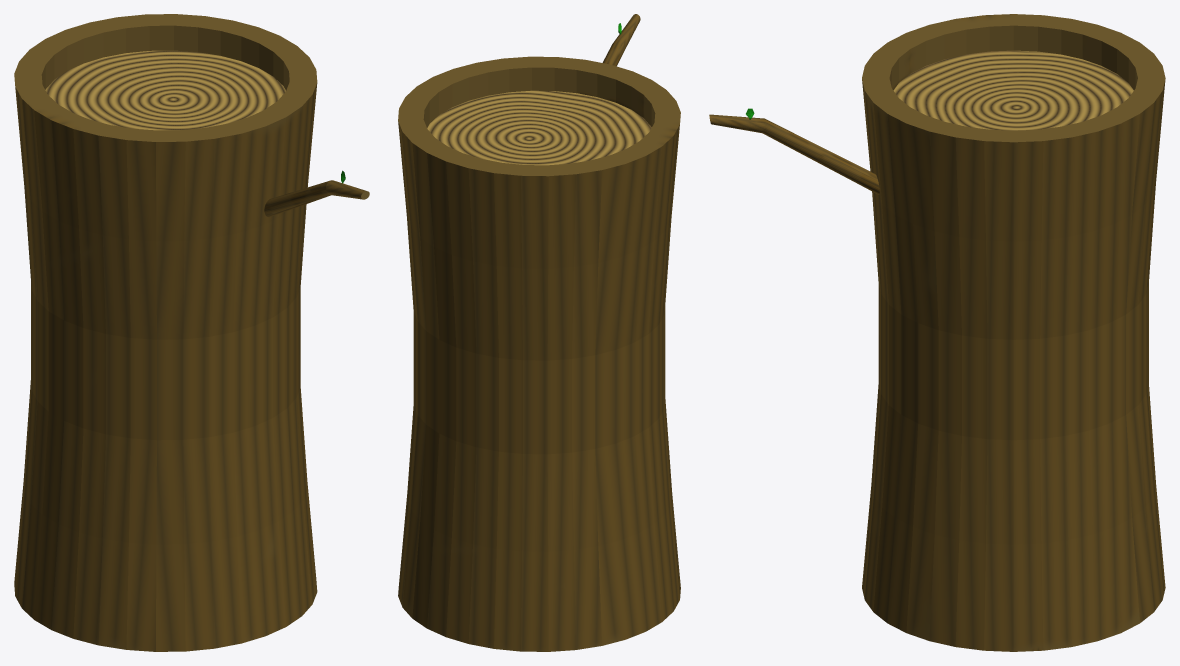
The model's file is Log.fbx.
The picture shows the model from 3 angles, left to right: view 1: azimuth 30°, elevation 25°; view 2: azimuth 150°, elevation 25°; view 3: azimuth 270°, elevation 25°; orthographic projection. The views are drawn at different scales.
Parts seen in each view (by area): view 1: Cylinder; view 2: Cylinder; view 3: Cylinder.
Boxes of the visible parts, box(x1,y1,x2,y2) form: Cylinder: box(14, 14, 369, 651); Cylinder: box(398, 14, 680, 651); Cylinder: box(709, 14, 1165, 651).
Bounding box in the file's own units: 111 × 205 × 166.
Materials: 3 (3 with a texture image).
